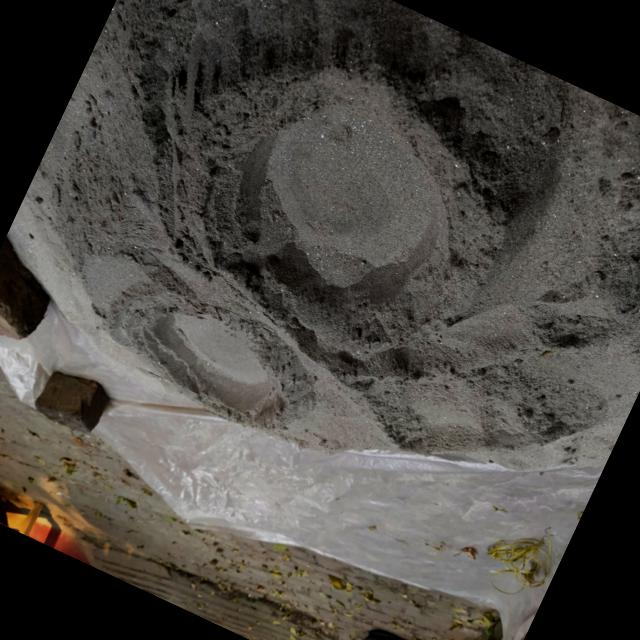C20: (232, 105, 444, 340), (145, 312, 273, 411)
